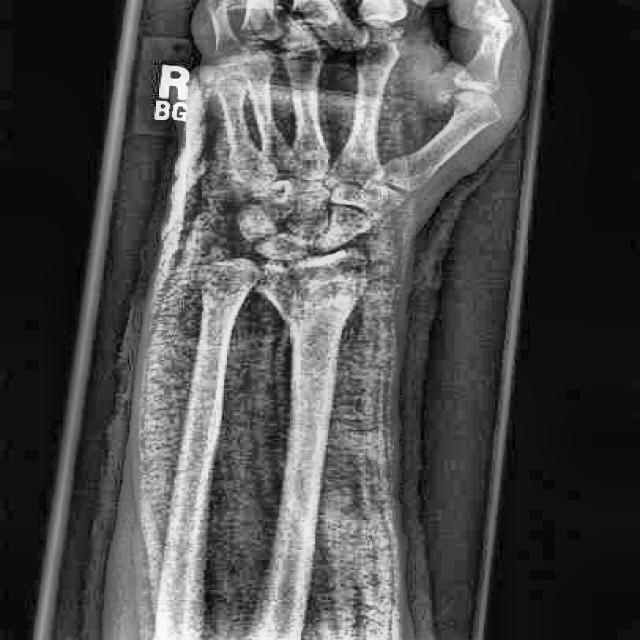fingers positive: (246, 242, 330, 338)
